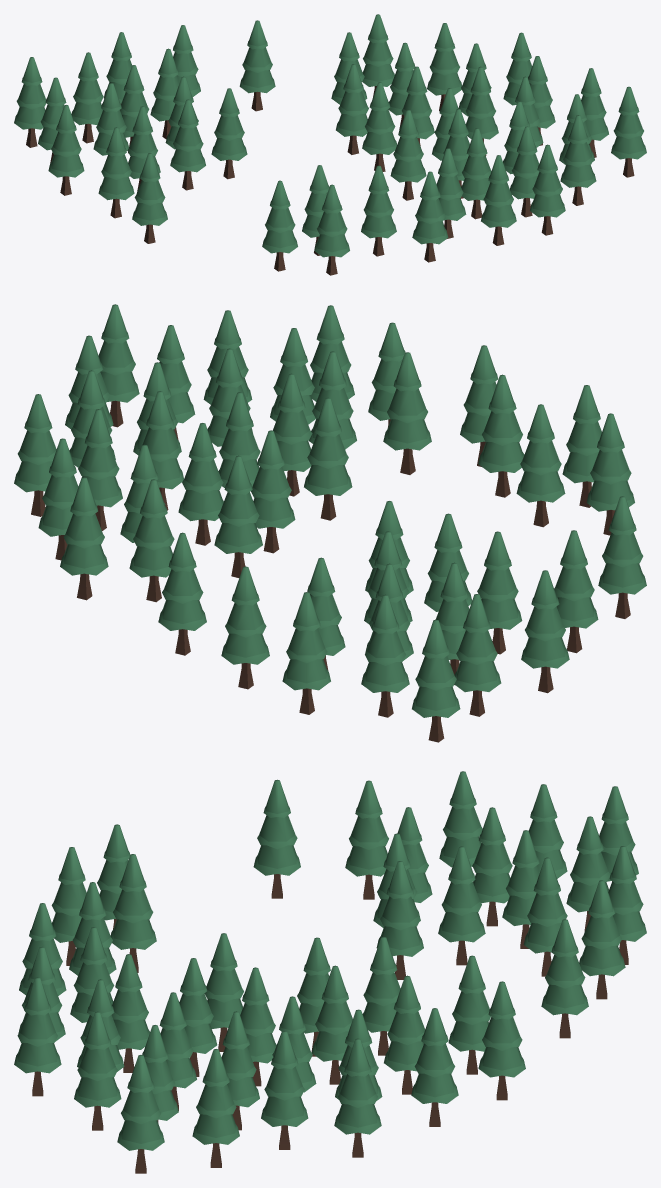
The model's file is trees.fbx.
The picture shows the model from 3 angles, top to bottom: view 1: azimuth 30°, elevation 25°; view 2: azimuth 150°, elevation 25°; view 3: azimuth 270°, elevation 25°; orthographic projection. The views are drawn at different scales.
Visible parts, largest first — view 1: trees; view 2: trees; view 3: trees.
Boxes of the visible parts, x1=… form: trees: x1=14, y1=14, x2=646, y2=275; trees: x1=14, y1=304, x2=646, y2=742; trees: x1=14, y1=771, x2=646, y2=1173.
Size of the model in its own units: 797 by 141 by 700.
